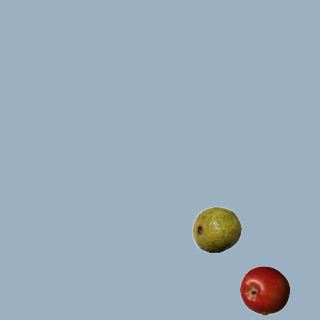Apple Braeburn: (239, 265, 289, 315)
Guava: (191, 204, 241, 254)
